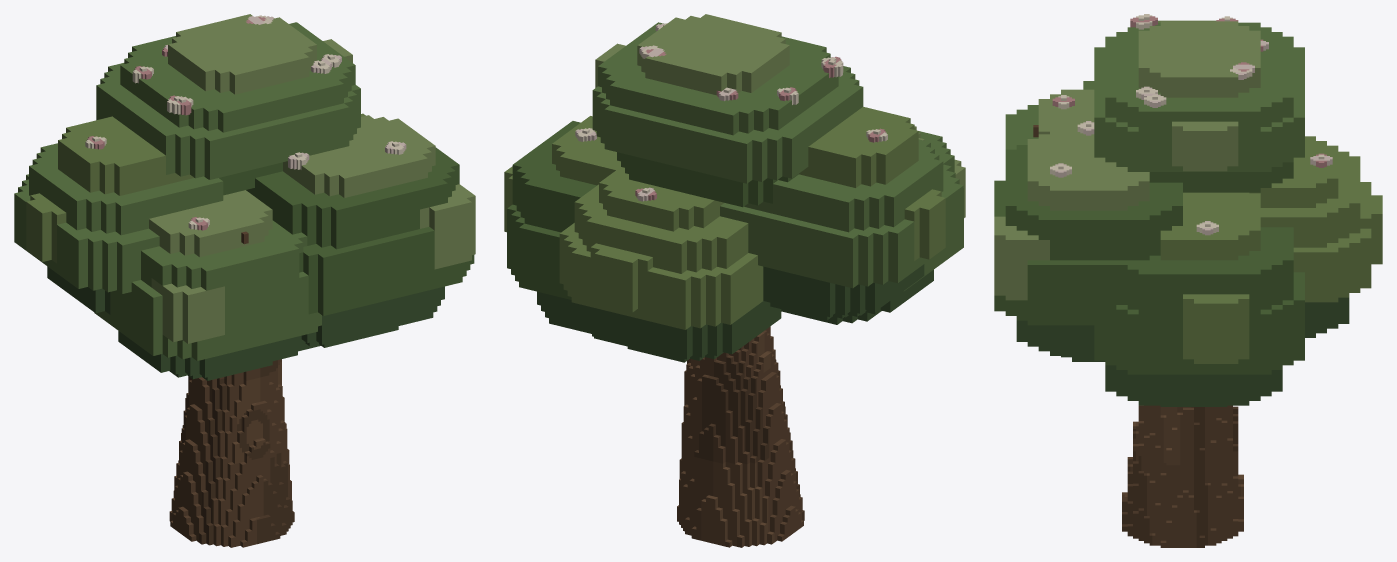
The model's file is apple_mature_spring.glb.
3 renders of one model, left to right at view 1: azimuth 30°, elevation 25°; view 2: azimuth 150°, elevation 25°; view 3: azimuth 270°, elevation 25°, orthographic. The views are drawn at different scales.
Visible parts, largest first — view 1: VoxelVisual; view 2: VoxelVisual; view 3: VoxelVisual.
Part boxes in pixels (bbox=[...]): VoxelVisual: bbox=[14, 14, 475, 547]; VoxelVisual: bbox=[504, 14, 965, 547]; VoxelVisual: bbox=[994, 14, 1382, 547].
Size of what is drawn, in the model's own units: 10.75 by 12 by 8.75.
